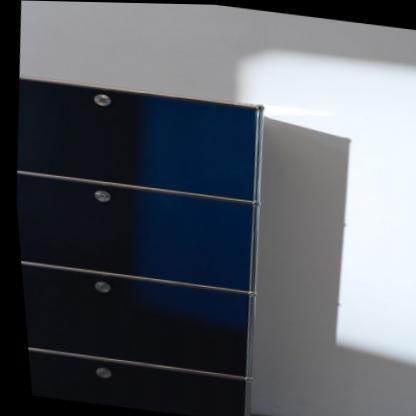Wall Panel: (13, 77, 263, 416)
